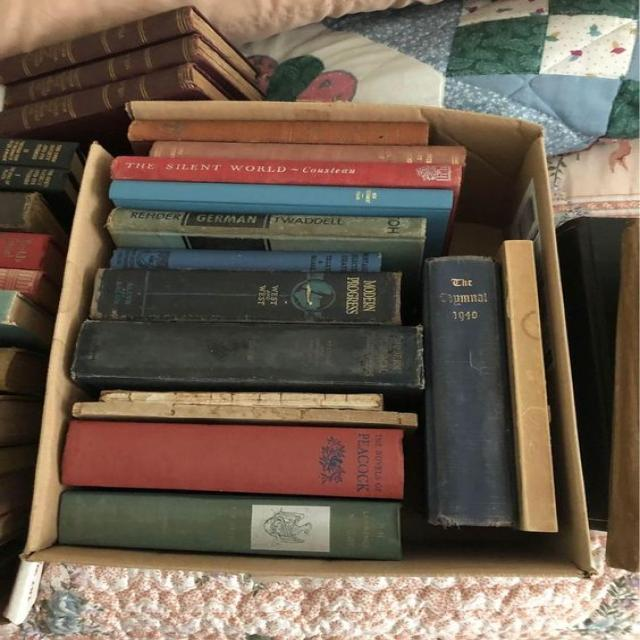book: (61, 419, 404, 498), (71, 321, 423, 387), (57, 493, 400, 559), (430, 257, 513, 526), (91, 268, 401, 323), (506, 240, 558, 531), (2, 5, 193, 83), (4, 37, 197, 109), (0, 64, 193, 135), (112, 157, 461, 189), (109, 181, 454, 208), (73, 401, 418, 428), (105, 207, 426, 236), (150, 142, 466, 166), (128, 122, 431, 144), (111, 246, 380, 270), (101, 390, 381, 411)
